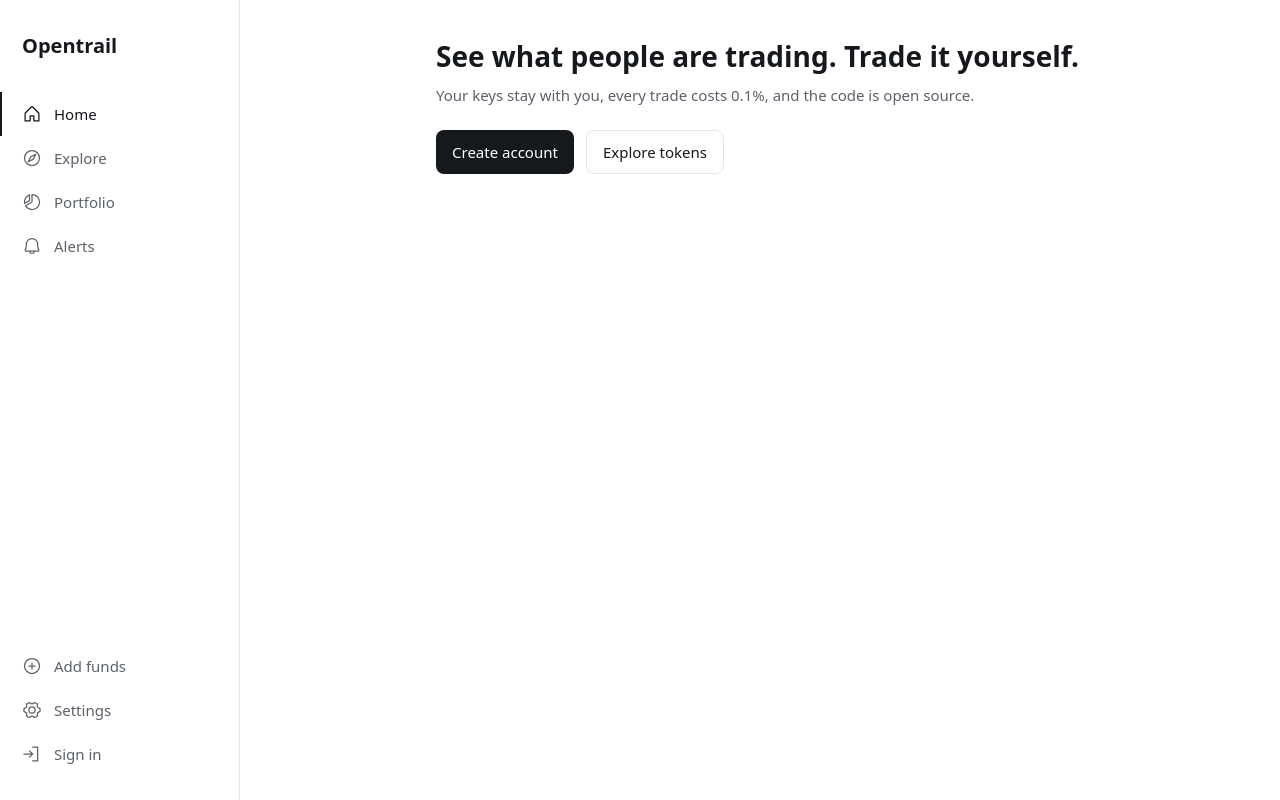
Test: the sign-in sheet › closes with the Close button, and starts over when opened again
The image size is (1280, 800).
Click the button "Create account". click: x=505, y=152
box: 436,130 -> 574,174
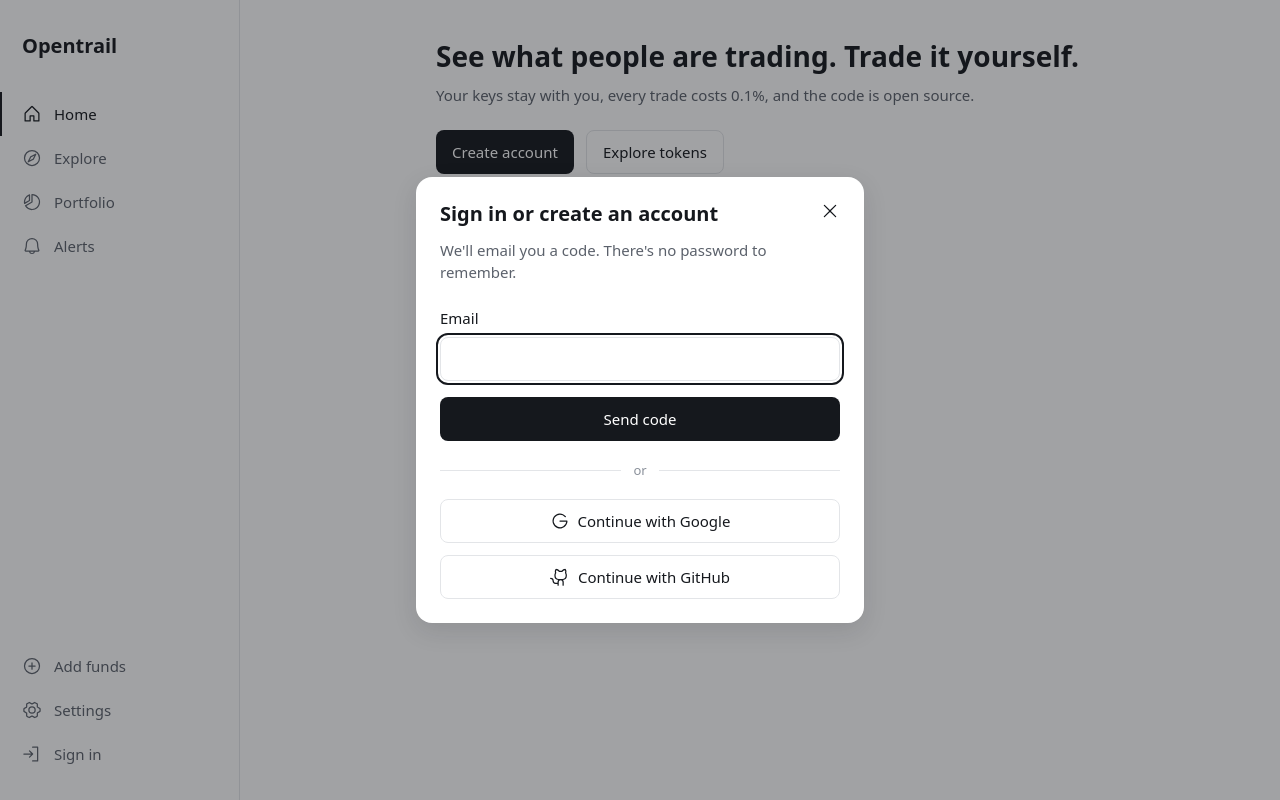
Type "maya@example.com" into the field labelled "Email". click: x=640, y=359
box: 440,337 -> 840,381
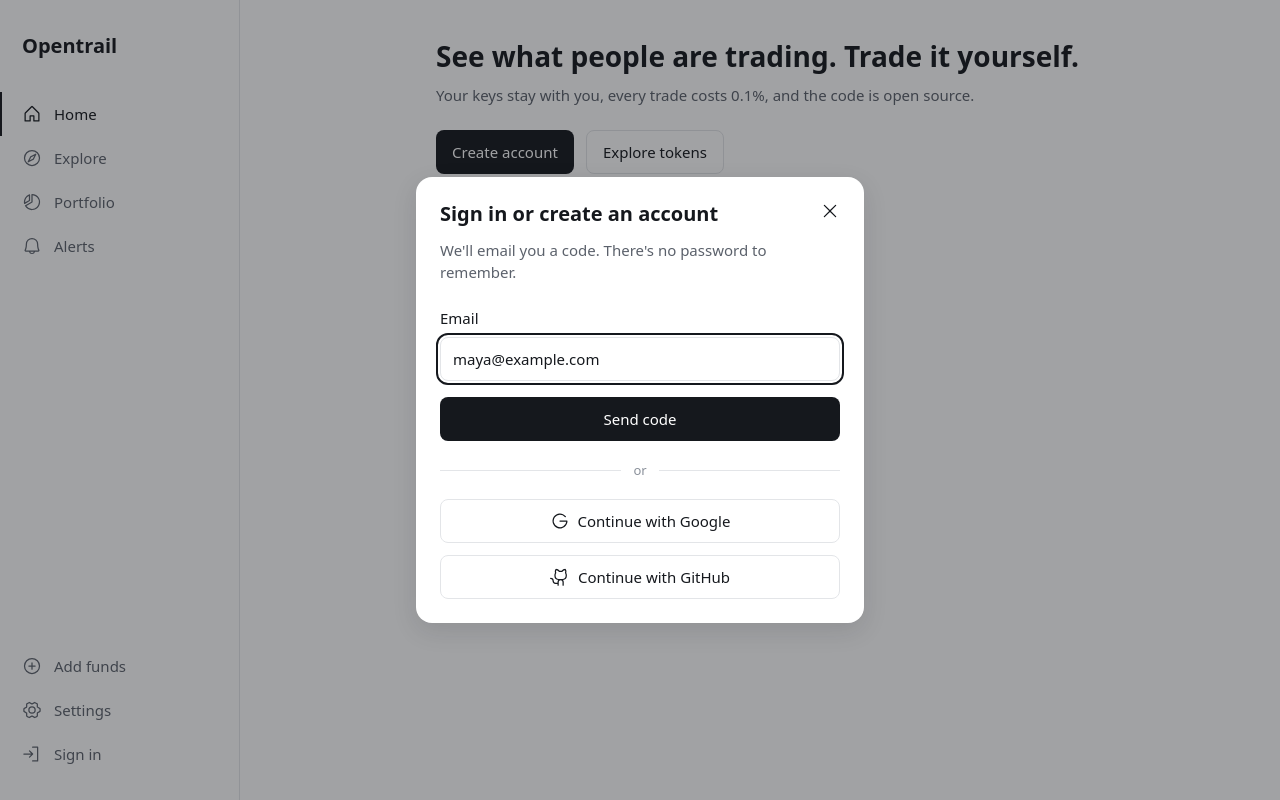
Click the button "Send code". click: x=640, y=419
box: 440,397 -> 840,441
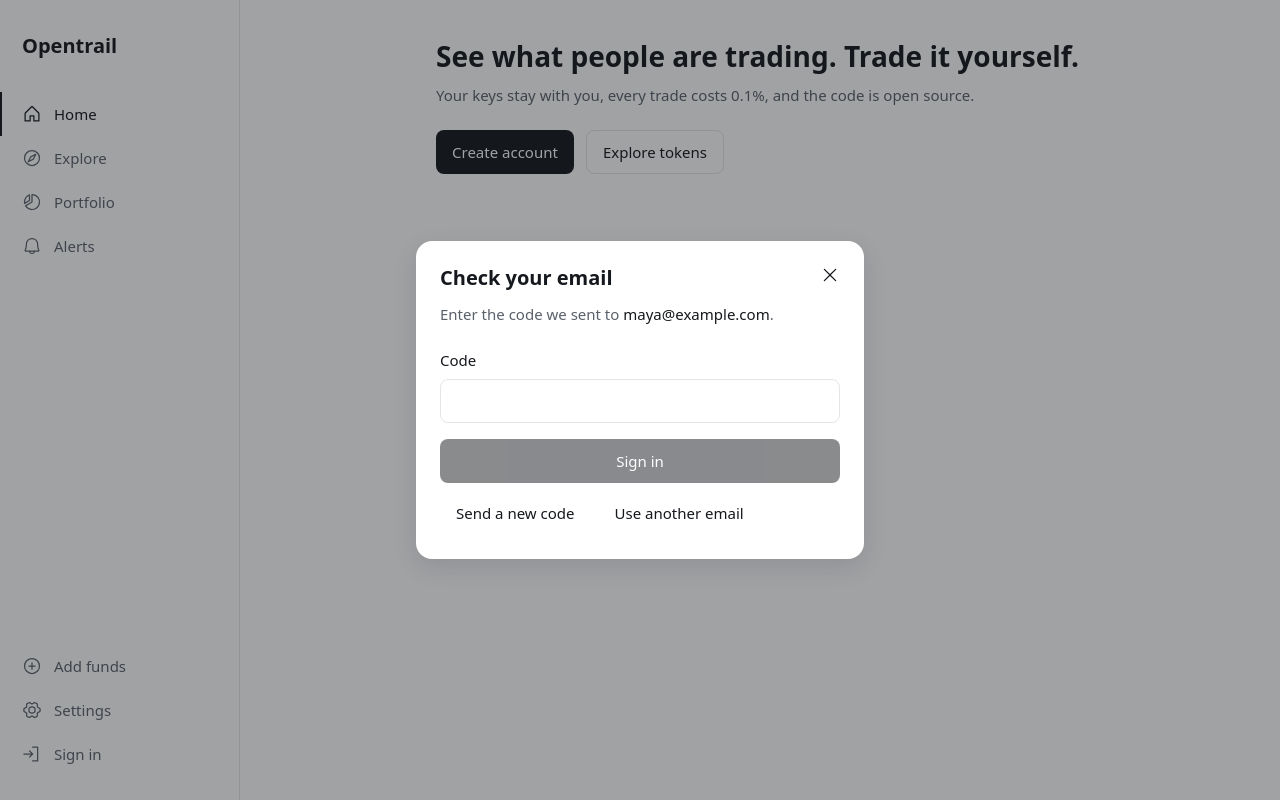
Now the heading "Check your email" is shown, box 440,264 -> 612,291
Click the button named "Close". click: x=830, y=275
box: 808,253 -> 852,297
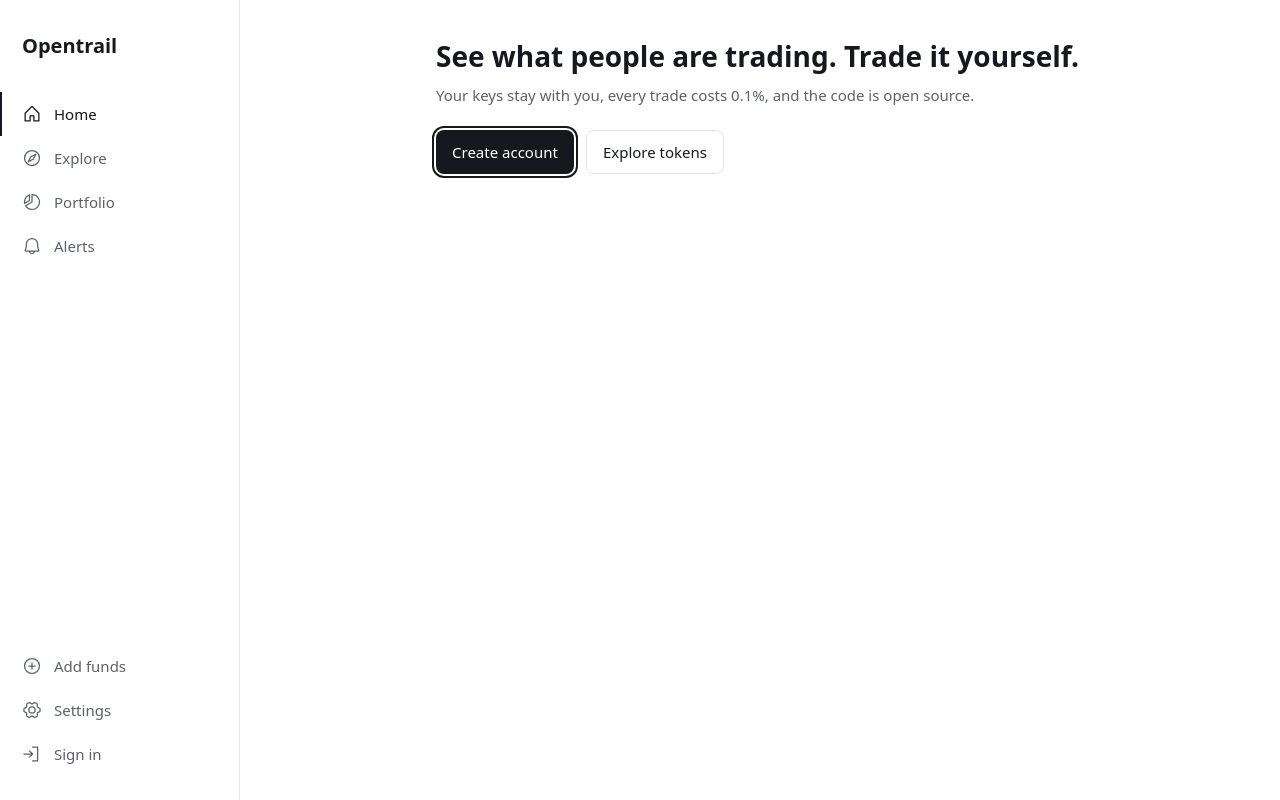
Now the heading "Check your email" is gone
Click the button "Create account". click: x=505, y=152
box: 436,130 -> 574,174
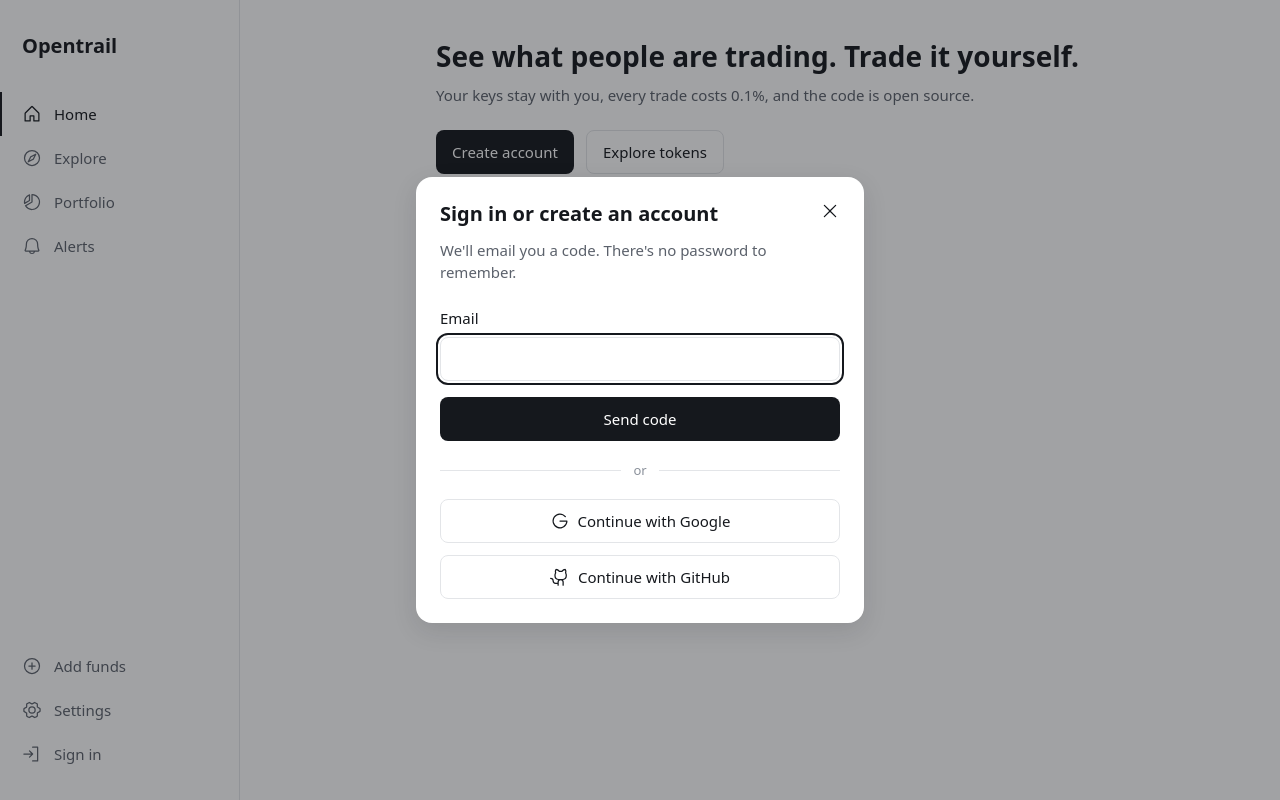
Now the heading "Sign in or create an account" is shown, box 440,200 -> 718,227
